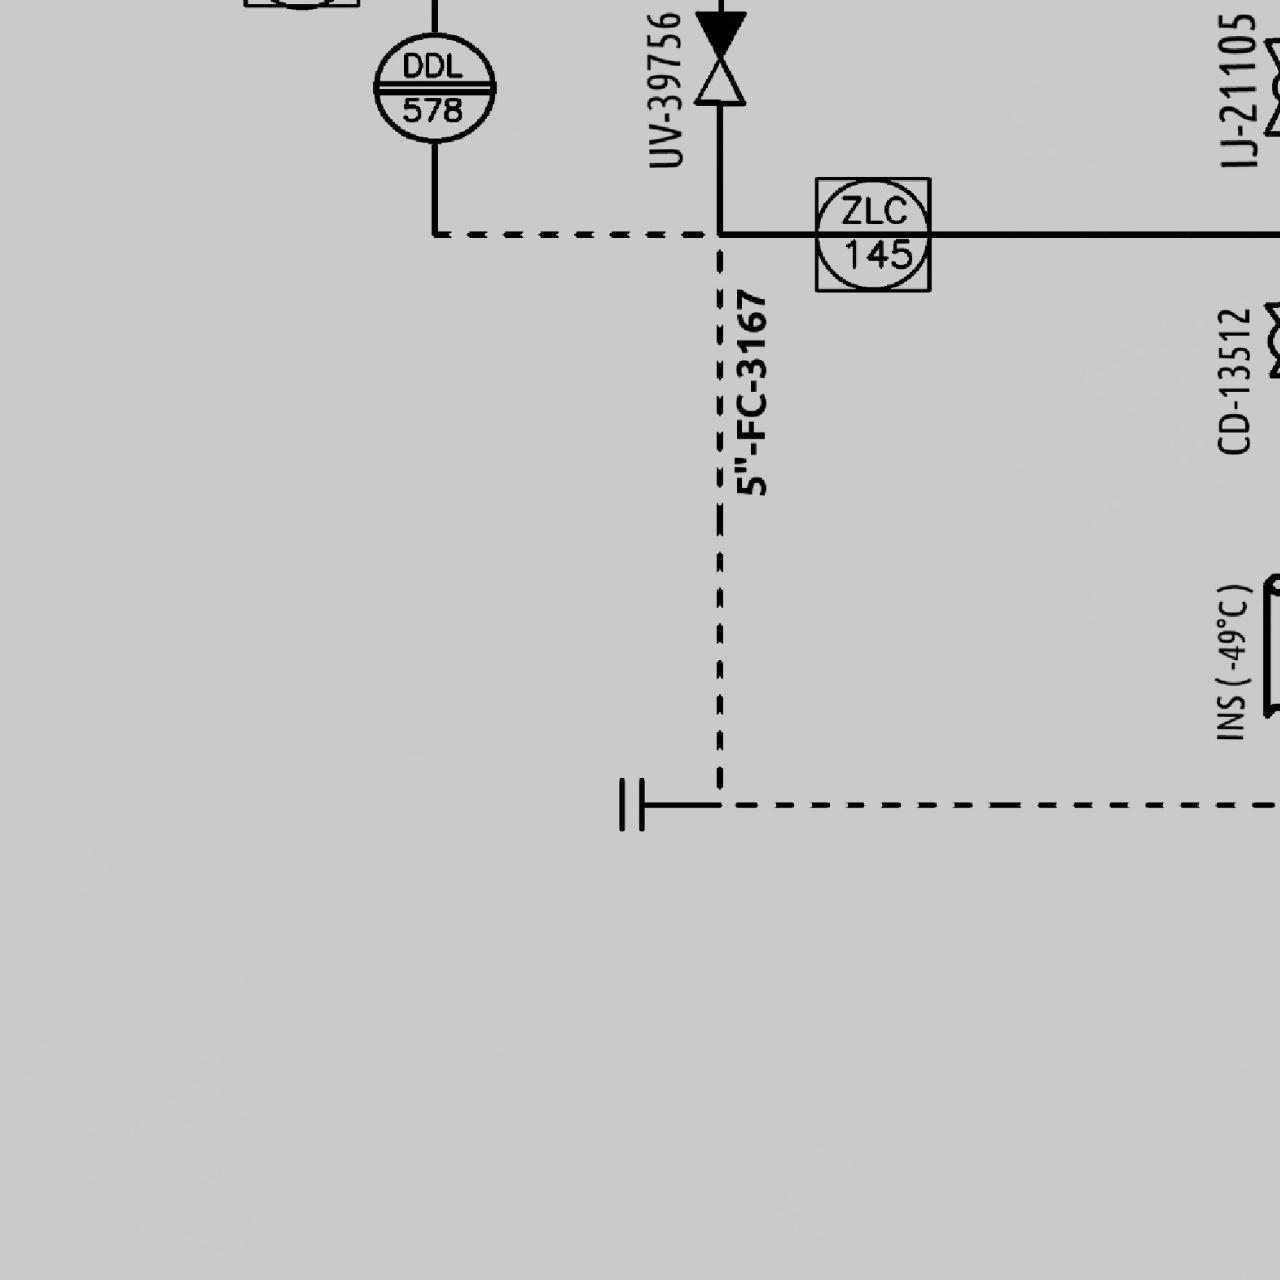Control-Panel: (368, 22, 499, 152)
Half closed valve: (688, 5, 750, 109)
